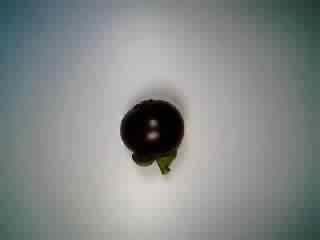mangosteen: (116, 94, 190, 179)
